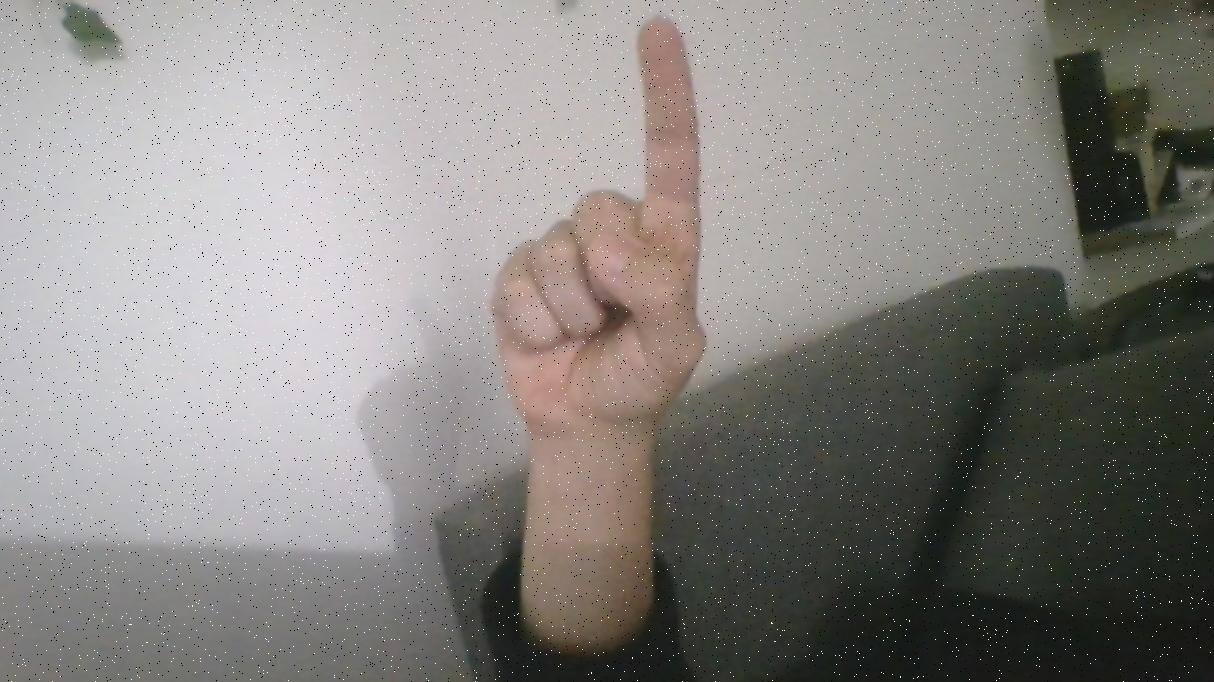up: (474, 0, 728, 440)
